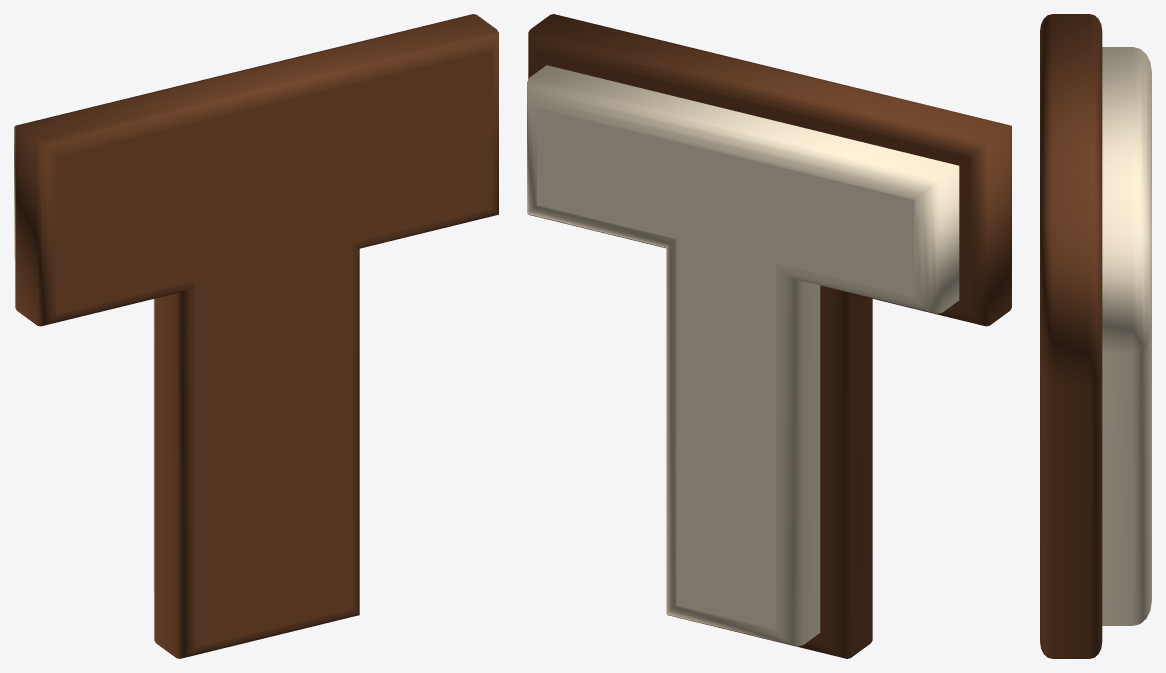
The model's file is Letter_T.fbx.
The picture shows the model from 3 angles, left to right: view 1: azimuth 30°, elevation 25°; view 2: azimuth 150°, elevation 25°; view 3: azimuth 270°, elevation 25°; orthographic projection. The views are drawn at different scales.
Parts seen in each view (by area): view 1: Letter_T; view 2: Letter_T; view 3: Letter_T.
Part boxes in pixels (x1=…): Letter_T: x1=14, y1=14, x2=498, y2=658; Letter_T: x1=527, y1=14, x2=1011, y2=658; Letter_T: x1=1040, y1=14, x2=1151, y2=658.
Size of the model in its own units: 0.78 by 0.892 by 0.18.
Materials: 1 (1 with a texture image).
